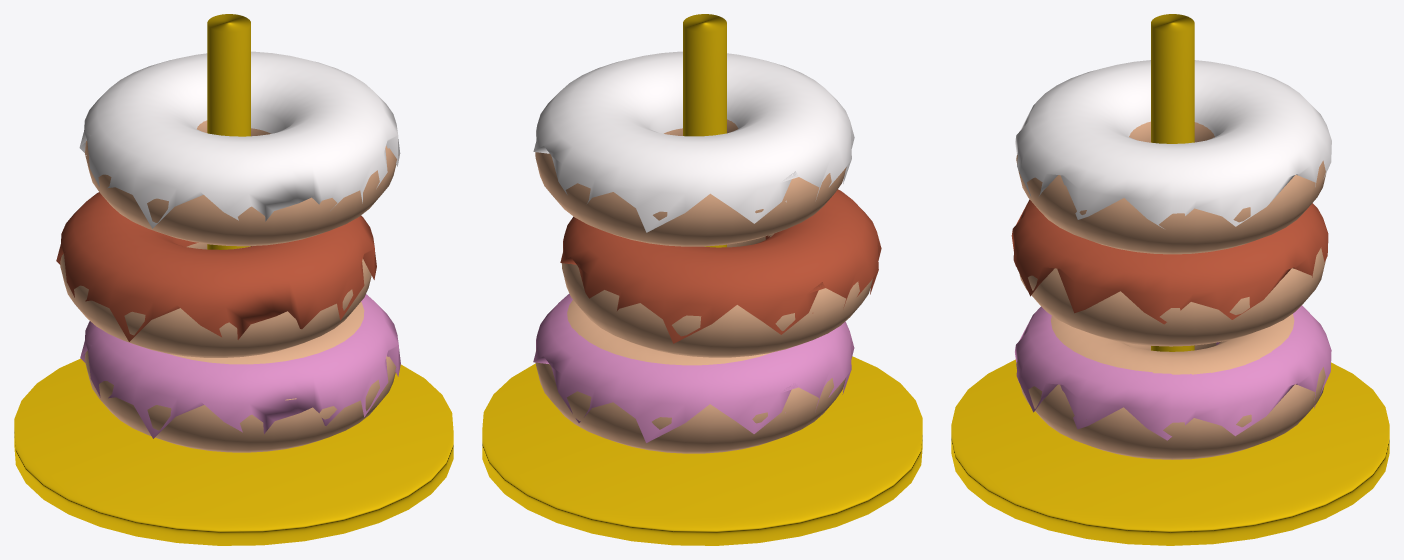
File: donut.gltf
3 renders of one model, left to right at view 1: azimuth 30°, elevation 25°; view 2: azimuth 150°, elevation 25°; view 3: azimuth 270°, elevation 25°, orthographic.
Visible parts, largest first — view 1: plate, icing.v, icing.c, icing.m, donut.m, donut.v, donut.c, Cylinder; view 2: plate, icing.v, icing.c, icing.m, donut.m, donut.c, donut.v, Cylinder; view 3: plate, icing.v, icing.m, icing.c, donut.m, donut.v, donut.c, Cylinder.
Part boxes in pixels (bbox=[...]): plate: bbox=[14, 358, 453, 545]; icing.v: bbox=[79, 51, 400, 228]; icing.c: bbox=[56, 192, 376, 341]; icing.m: bbox=[80, 294, 400, 438]; donut.m: bbox=[84, 302, 396, 452]; donut.v: bbox=[85, 120, 398, 246]; donut.c: bbox=[60, 243, 371, 357]; Cylinder: bbox=[207, 14, 250, 249]; plate: bbox=[482, 356, 922, 545]; icing.v: bbox=[533, 51, 854, 232]; icing.c: bbox=[560, 189, 881, 343]; icing.m: bbox=[533, 293, 854, 442]; donut.m: bbox=[535, 300, 845, 453]; donut.c: bbox=[561, 233, 872, 357]; donut.v: bbox=[535, 119, 846, 246]; Cylinder: bbox=[683, 14, 726, 247]; plate: bbox=[951, 359, 1389, 545]; icing.v: bbox=[1015, 60, 1331, 228]; icing.m: bbox=[1015, 305, 1331, 440]; icing.c: bbox=[1011, 199, 1328, 324]; donut.m: bbox=[1016, 314, 1325, 459]; donut.v: bbox=[1016, 121, 1325, 254]; donut.c: bbox=[1019, 247, 1325, 346]; Cylinder: bbox=[1151, 14, 1194, 351].
Size of the model in its own units: 0.7 by 0.7548 by 0.7.
